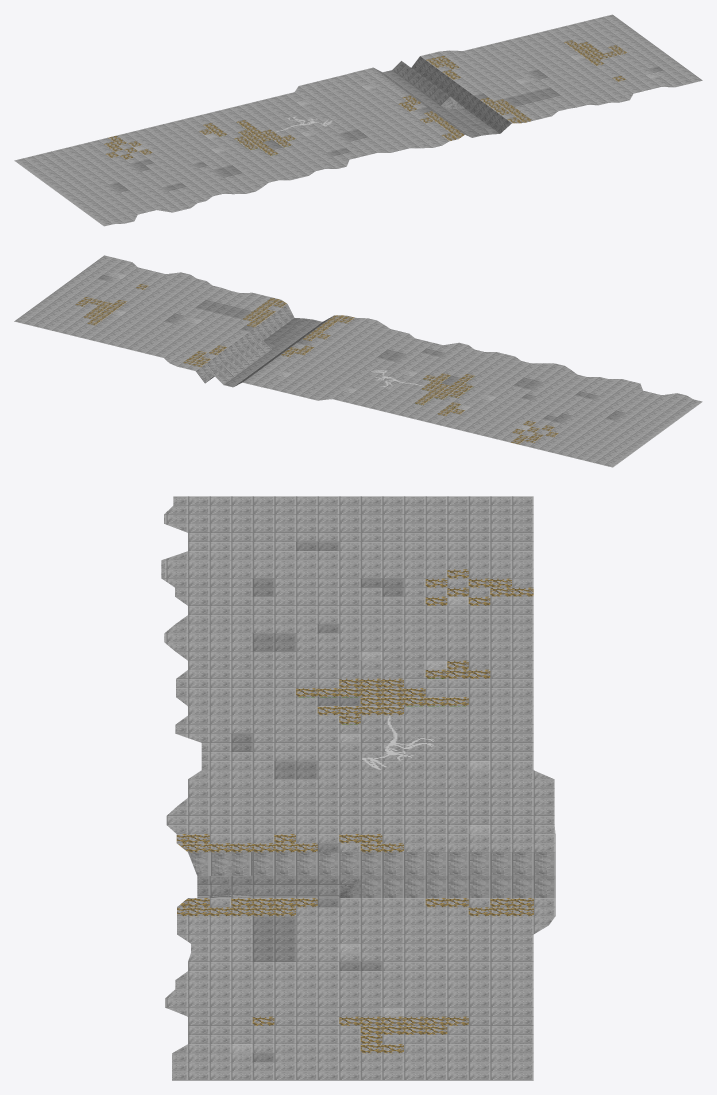
The model's file is WallRight.obj.
3 renders of one model, top to bottom at view 1: azimuth 30°, elevation 25°; view 2: azimuth 150°, elevation 25°; view 3: azimuth 270°, elevation 25°, orthographic. The views are drawn at different scales.
Visible parts, largest first — view 1: WallRight; view 2: WallRight; view 3: WallRight.
Boxes of the visible parts, left/top/right/bottom form: WallRight: left=14, top=14, right=702, bottom=226; WallRight: left=14, top=255, right=702, bottom=467; WallRight: left=161, top=496, right=555, bottom=1080.
Bounding box in the file's own units: 64 × 1.05 × 18.24.
